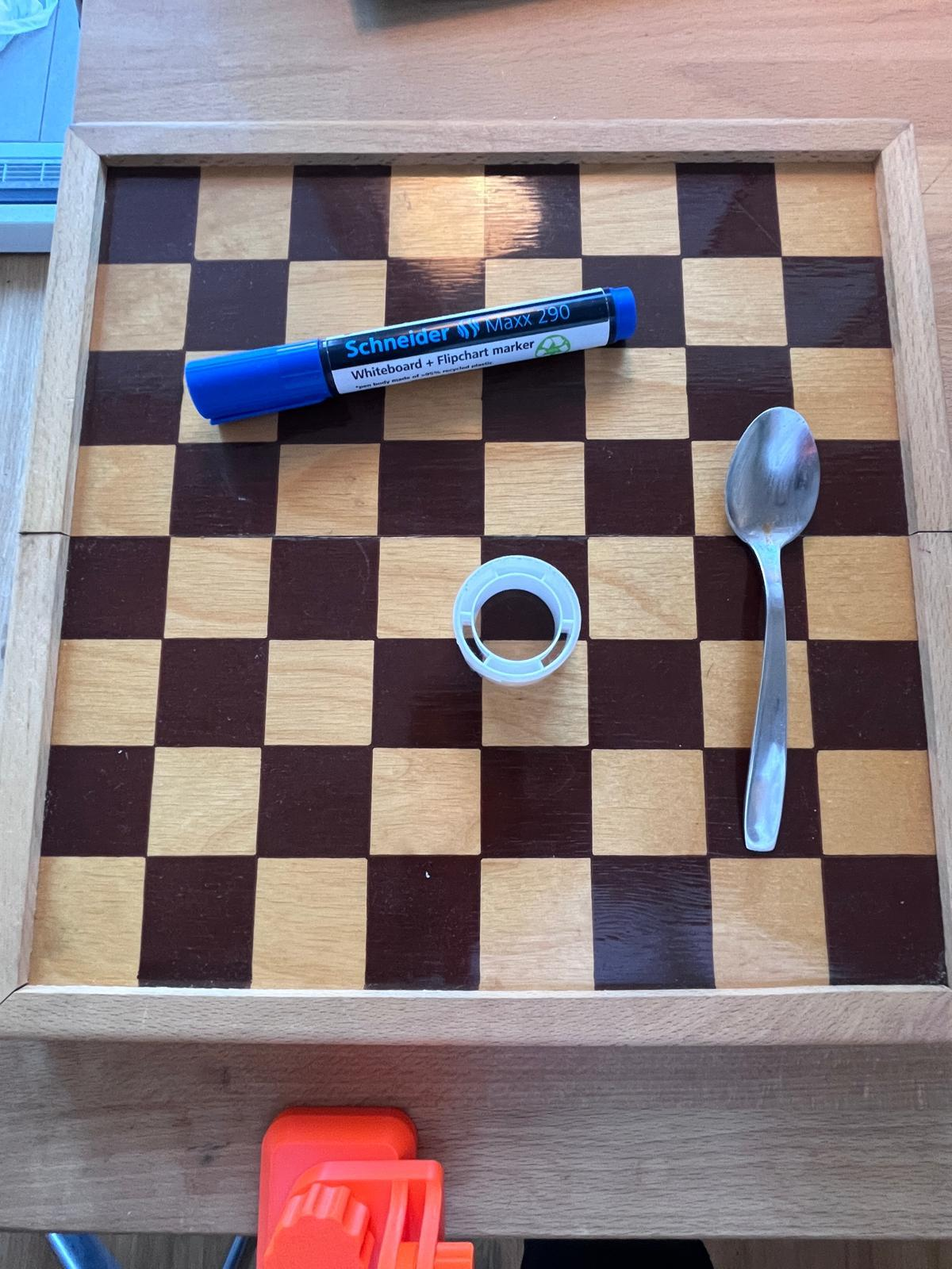marker: (176, 287, 641, 424)
tape: (451, 555, 589, 684)
